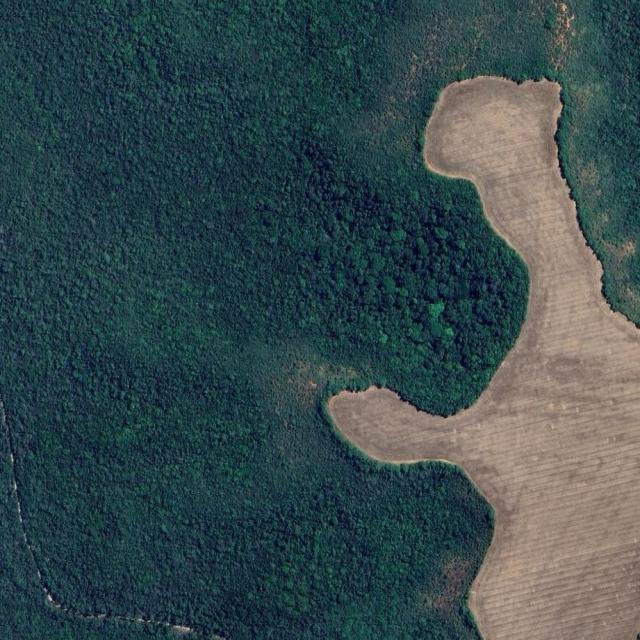noVegetation: (329, 77, 640, 638)
vegetation: (0, 0, 640, 638)
